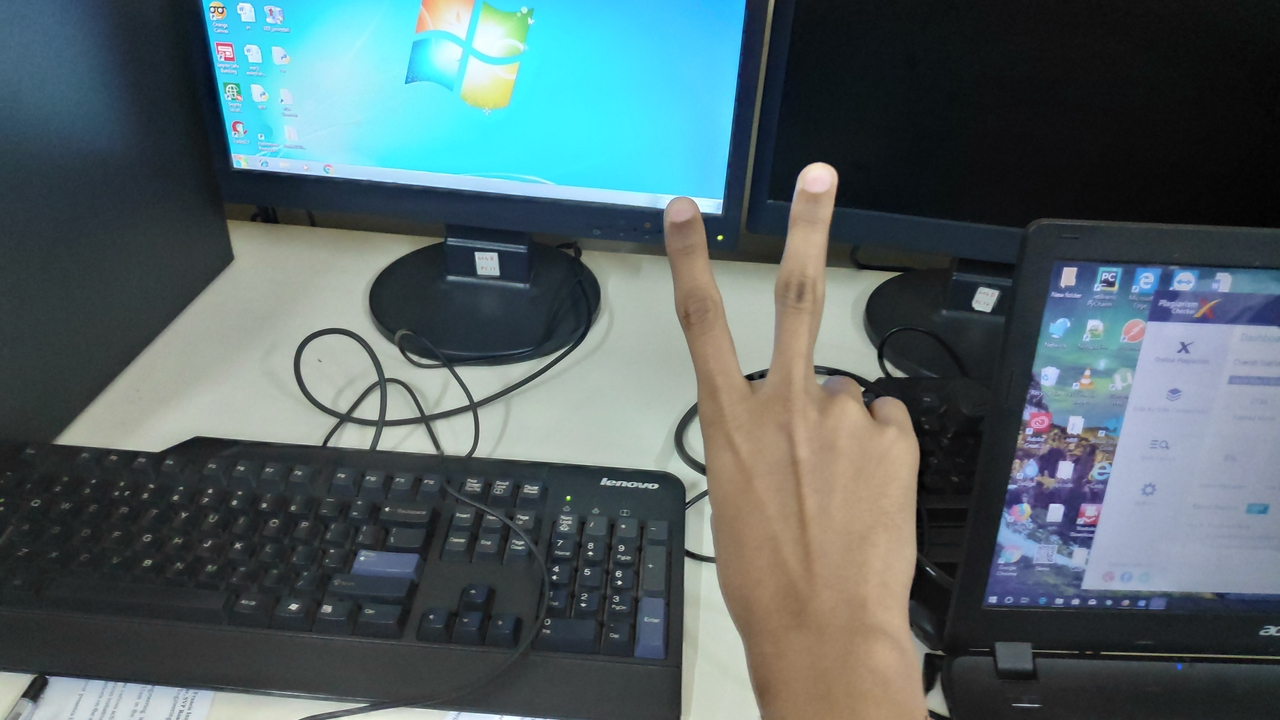fingertip: (654, 190, 714, 242), (794, 156, 848, 206)
